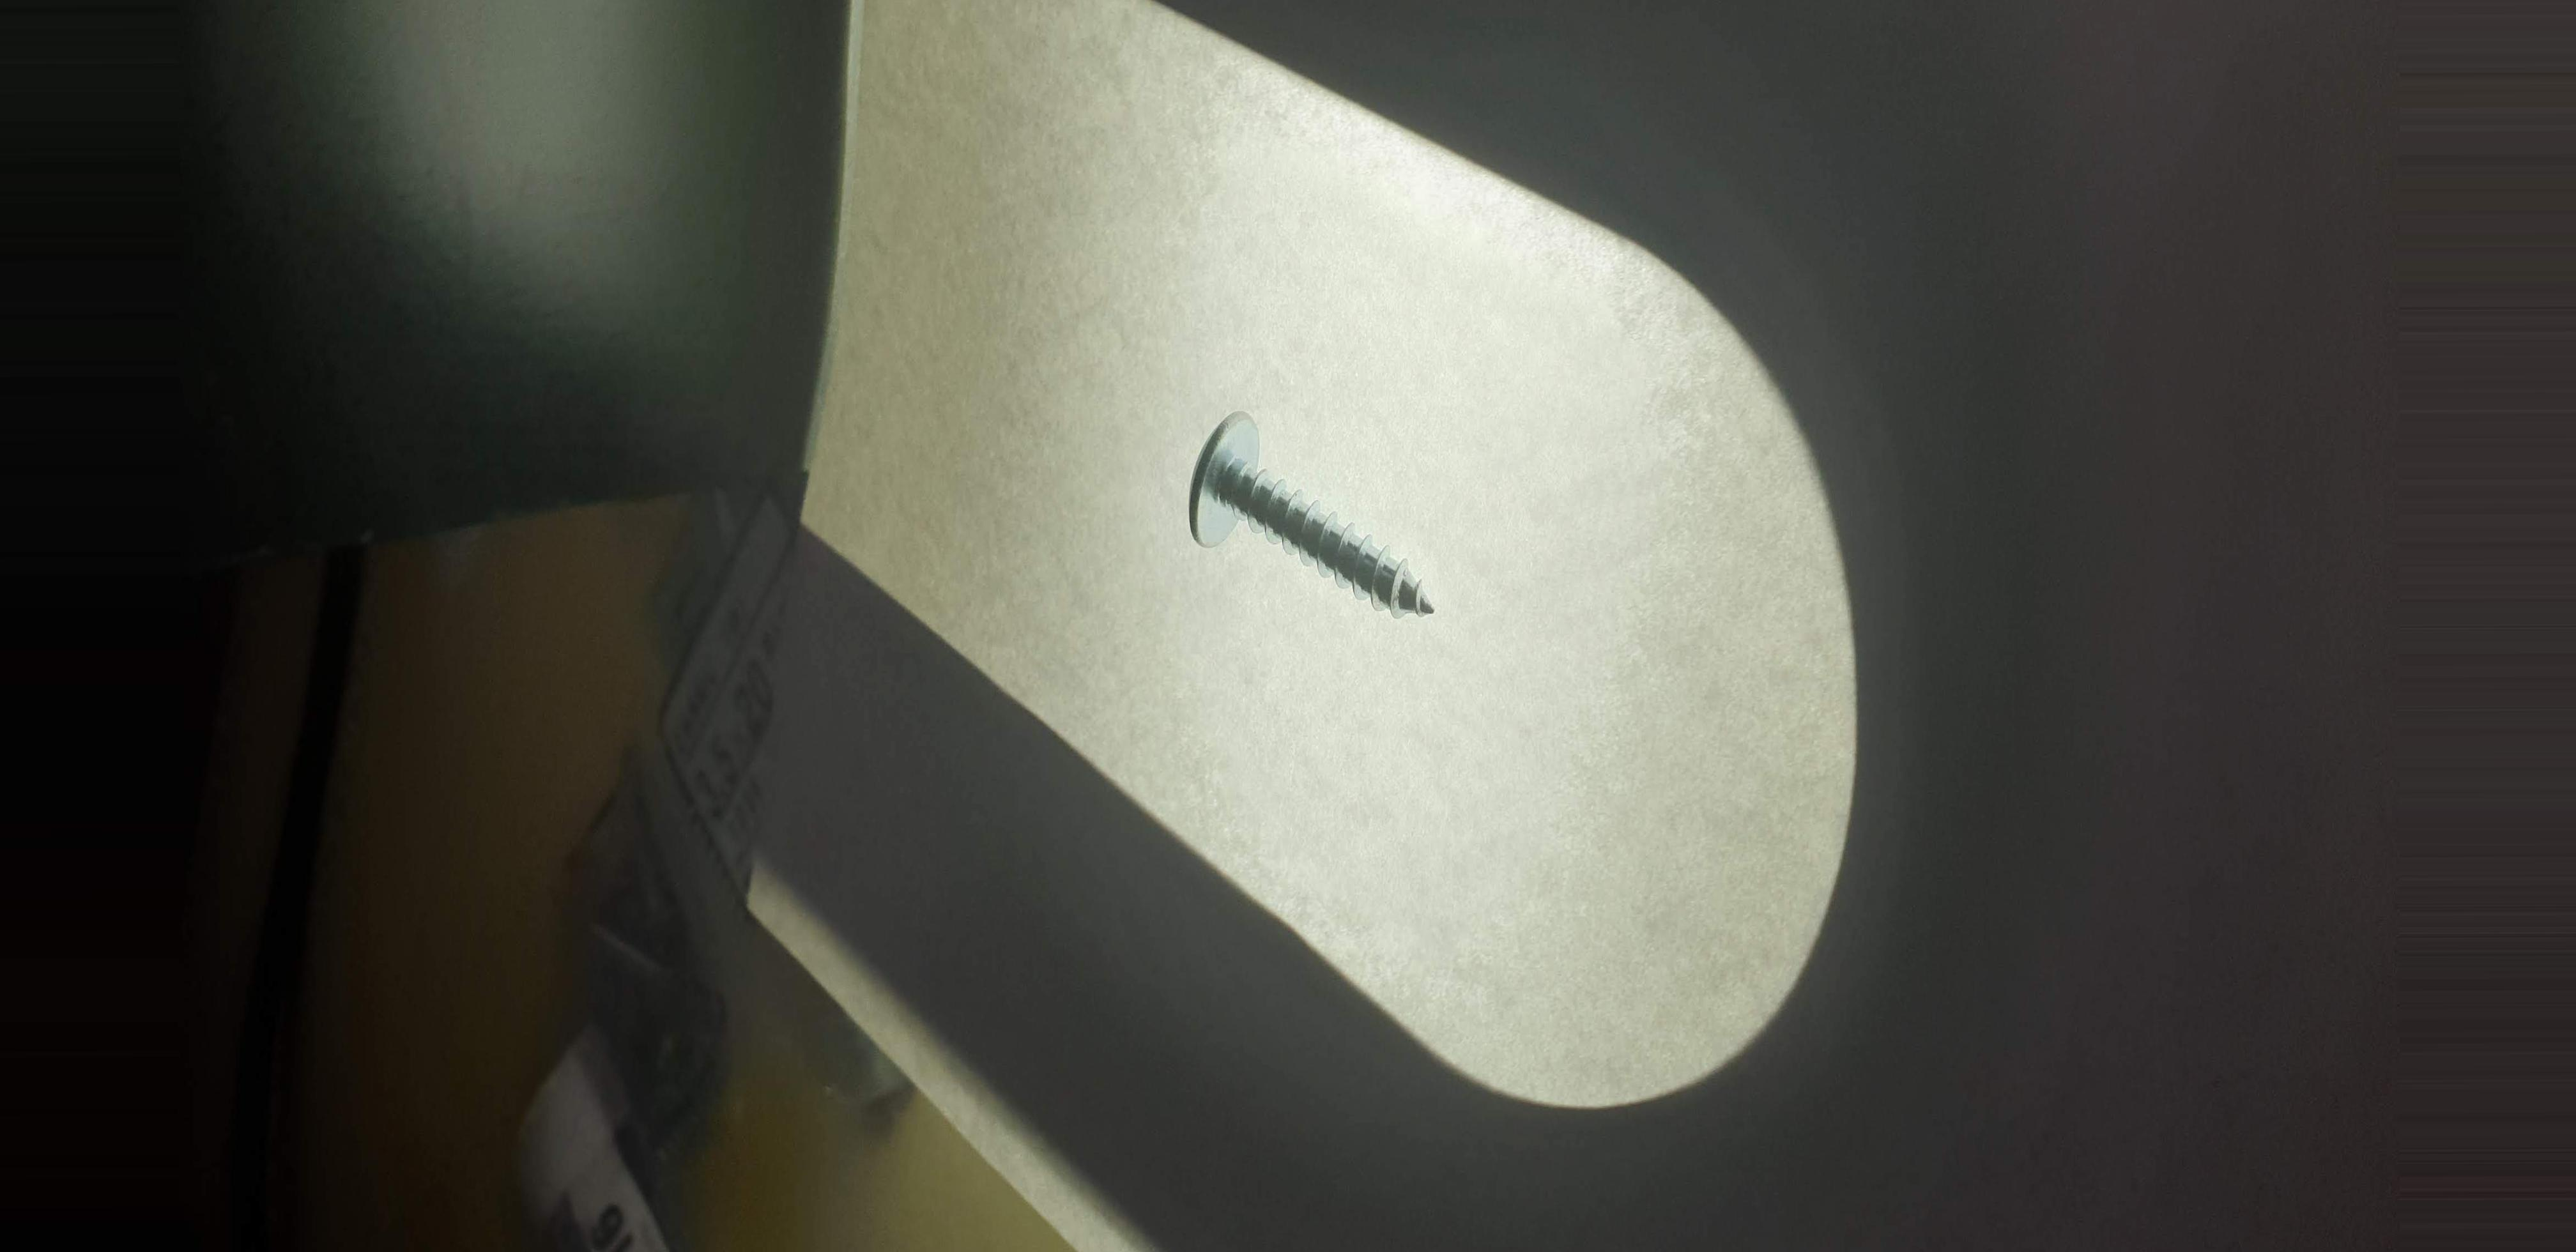S002: (1147, 386, 1470, 657)
